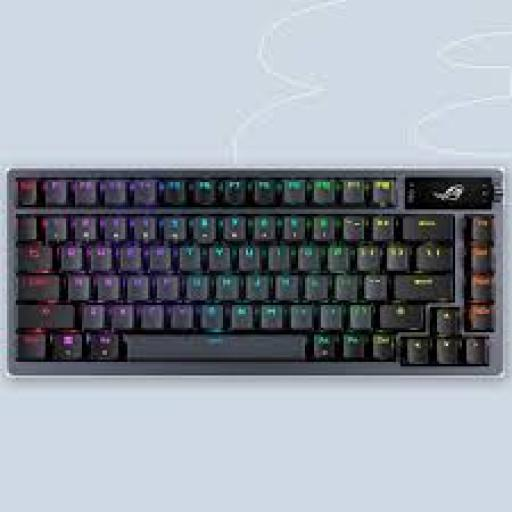KEYBOARD-2: (7, 168, 501, 373)
